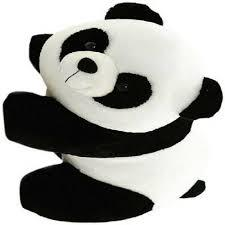KungfuPanda: (37, 14, 219, 210)
